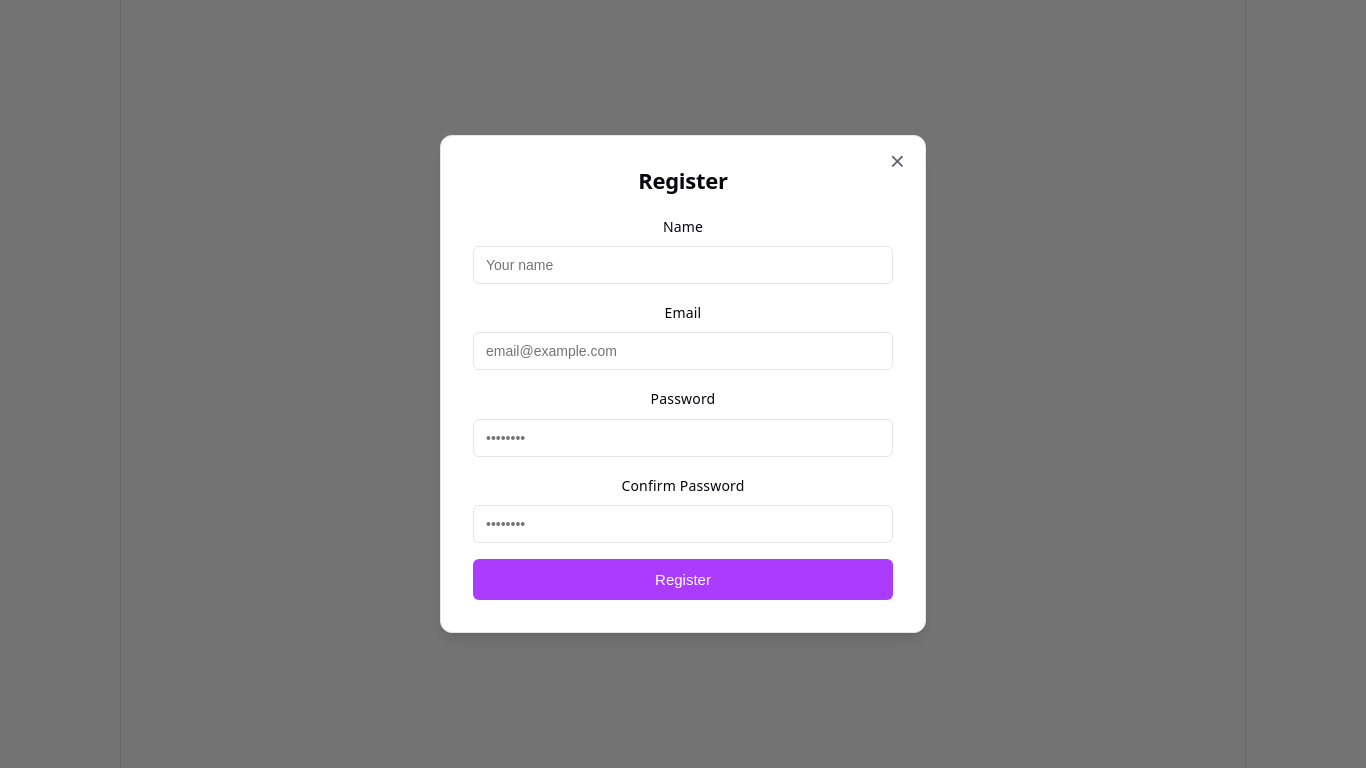
Test: AuthModal — register mode › shows error message on register failure
Type "Alice" into the field labelled "Name".
click(683, 265); type("Alice")  # box [473, 246, 893, 284]
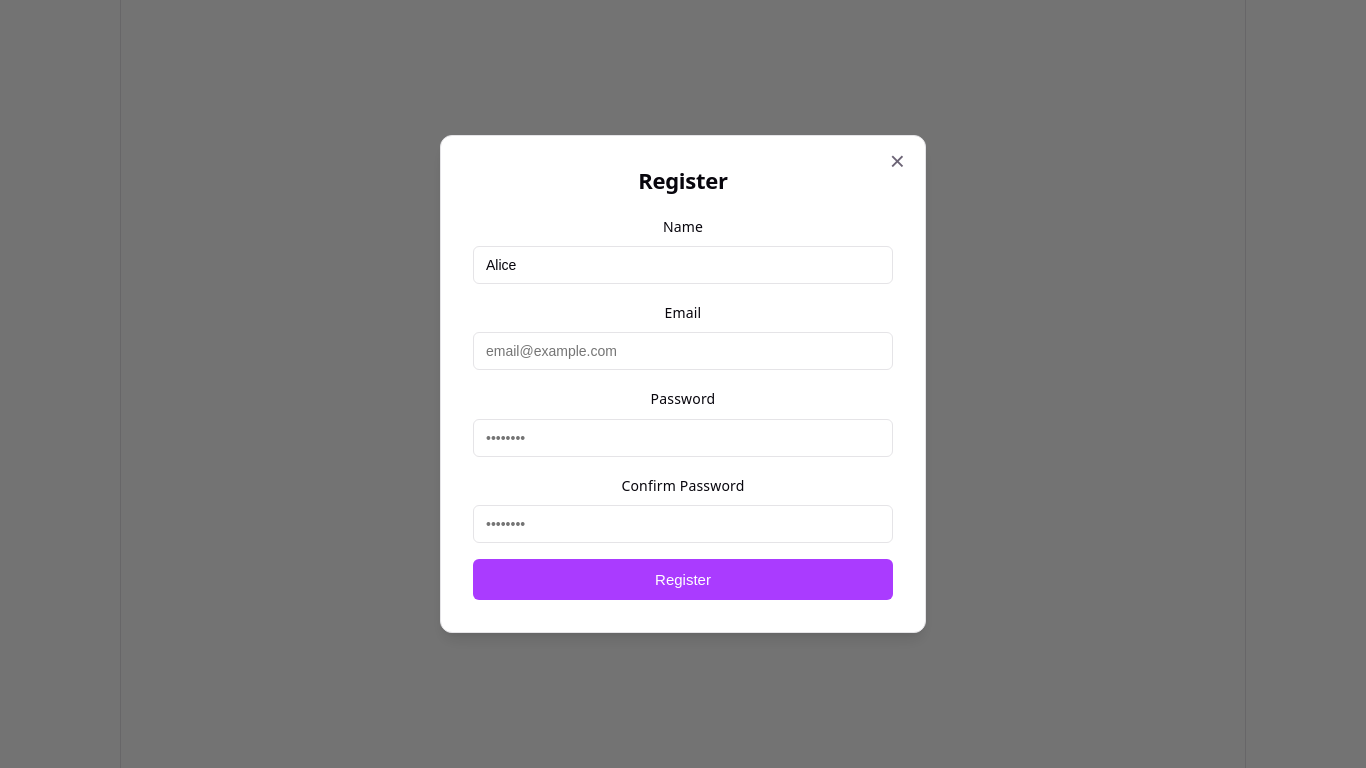
Type "taken@b.com" into the field labelled "Email".
click(683, 352); type("taken@b.com")  # box [473, 332, 893, 370]
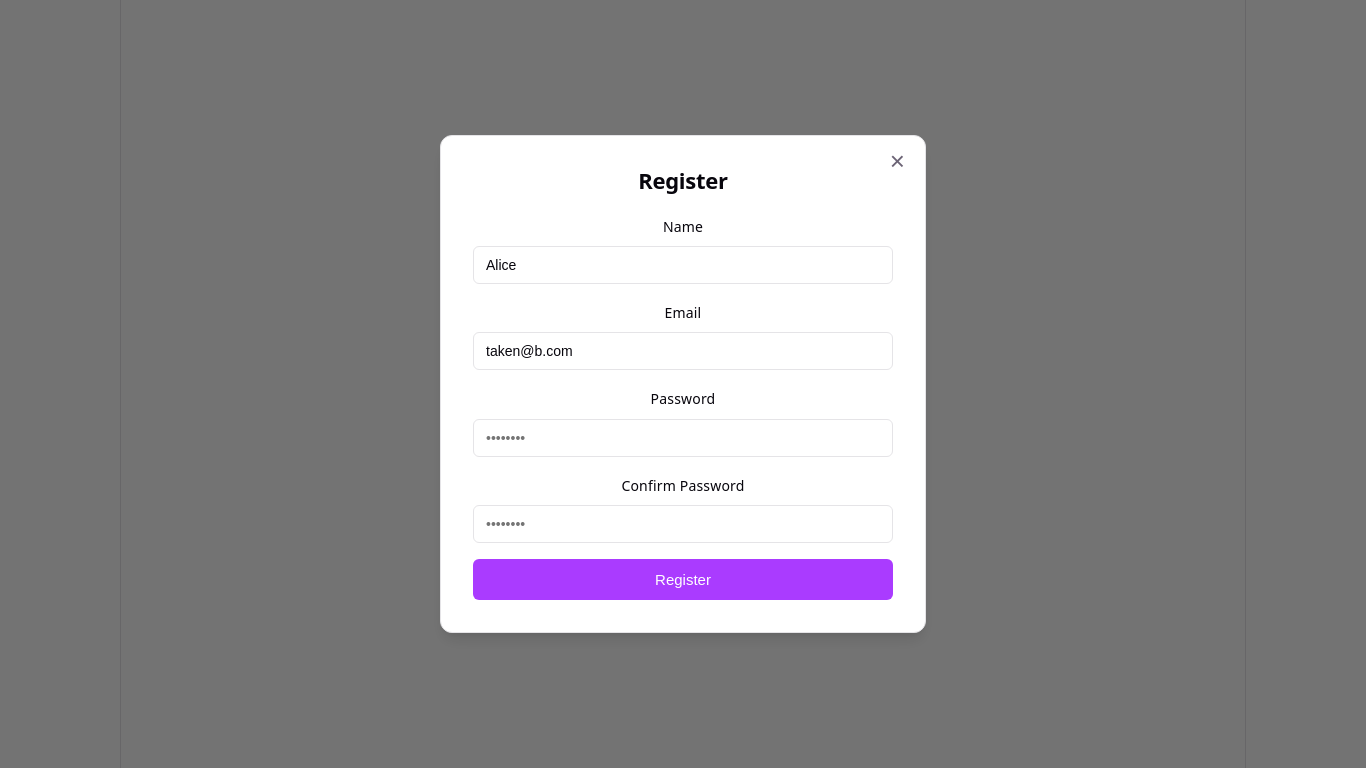
Type "pass" into the password field labelled "Password".
click(683, 438); type("pass")  # box [473, 419, 893, 457]
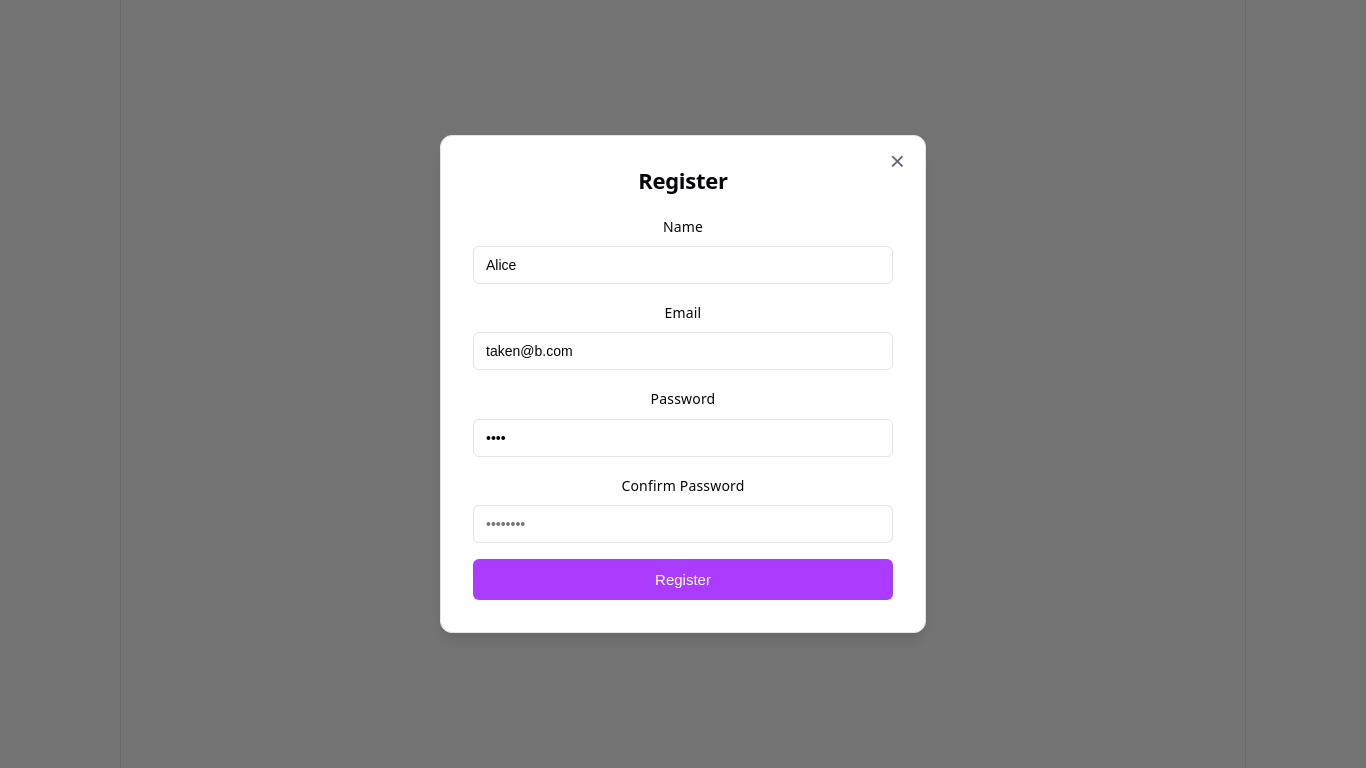
Type "pass" into the password field labelled "Confirm Password".
click(683, 524); type("pass")  # box [473, 505, 893, 543]
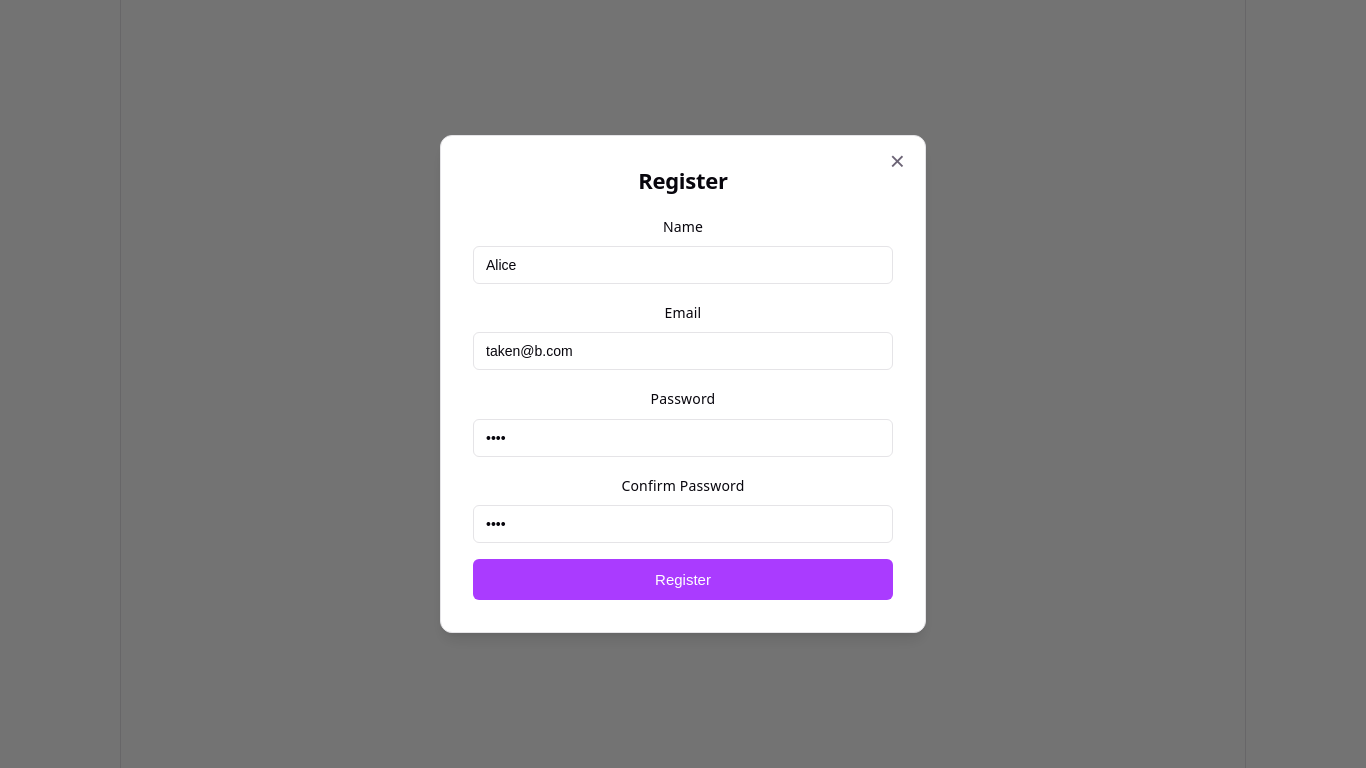
Click the button "Register".
click(683, 579)  # box [473, 559, 893, 600]
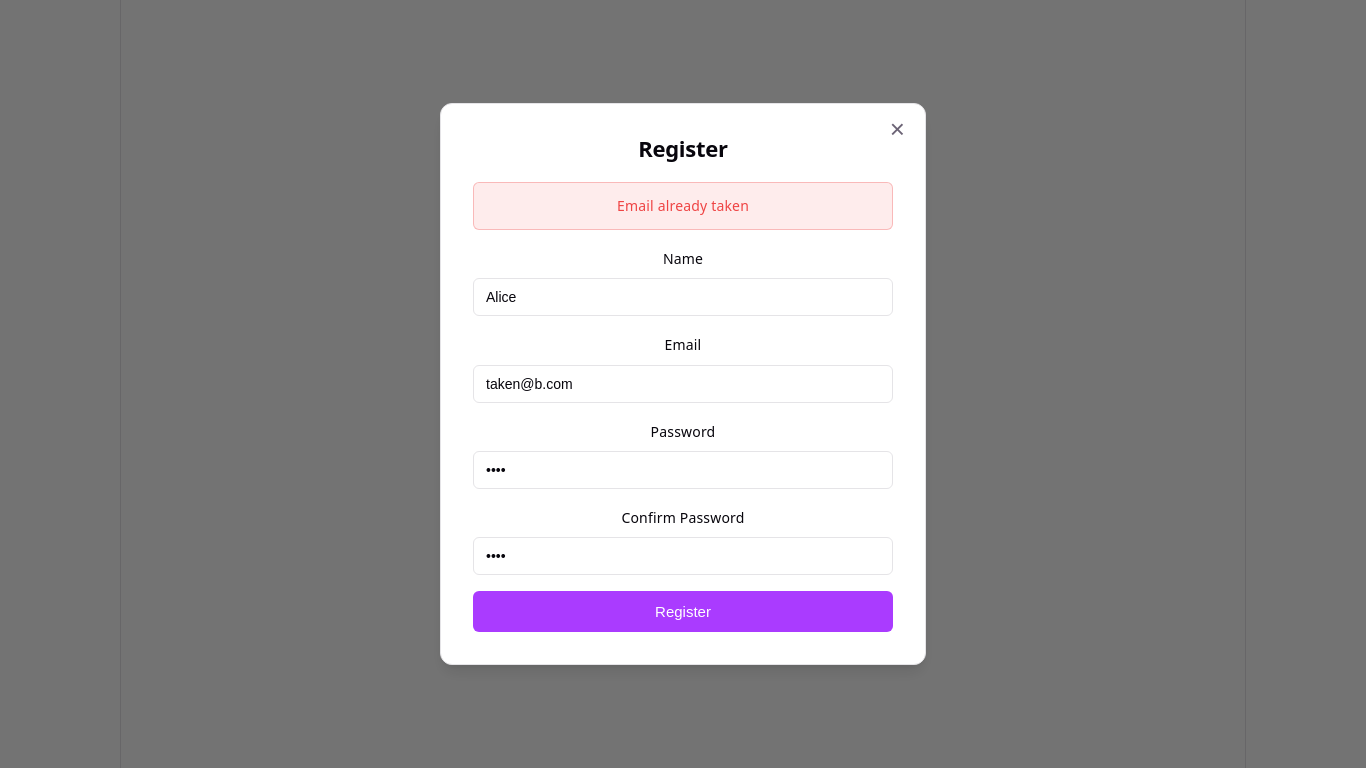
Expected: the message reads "Email already taken", [617, 196, 749, 215]
